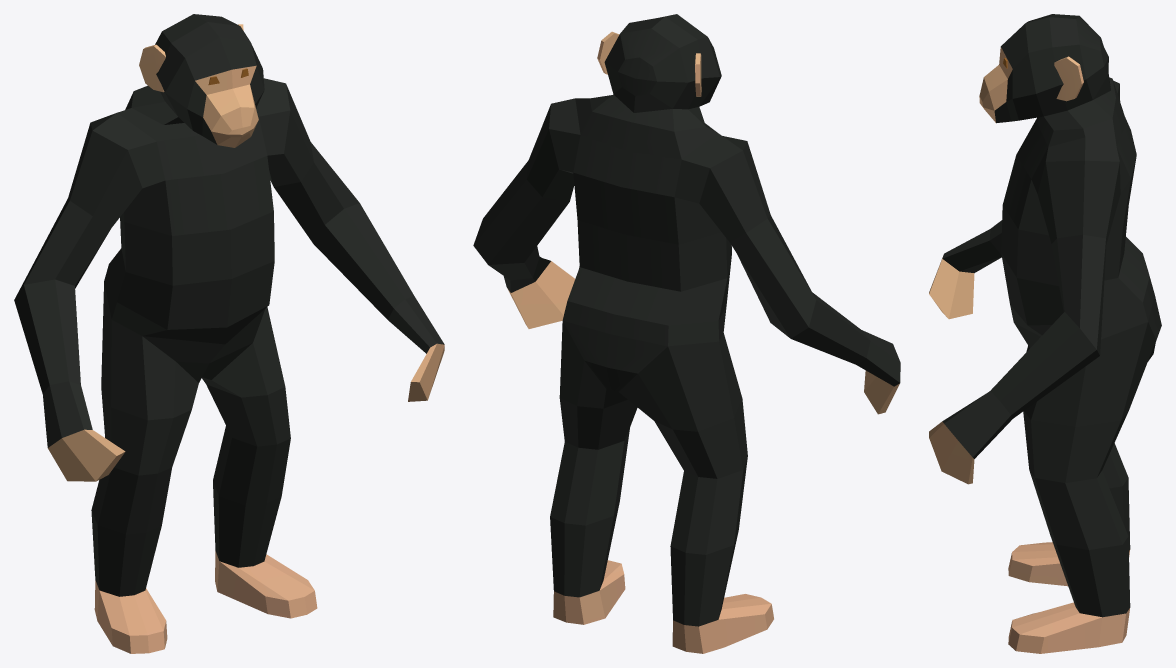
Rendered from chimpanzee.glb.
The picture shows the model from 3 angles, left to right: view 1: azimuth 30°, elevation 25°; view 2: azimuth 150°, elevation 25°; view 3: azimuth 270°, elevation 25°; orthographic projection.
Visible parts, largest first — view 1: Geo_Chimpanzee; view 2: Geo_Chimpanzee; view 3: Geo_Chimpanzee.
Boxes of the visible parts, x1,y1,x2,y2 form: Geo_Chimpanzee: (14, 14, 444, 653); Geo_Chimpanzee: (473, 14, 900, 653); Geo_Chimpanzee: (929, 14, 1161, 653).
Bounding box in the file's own units: 81.78 × 118 × 42.1.
1 material, 1 textured.
